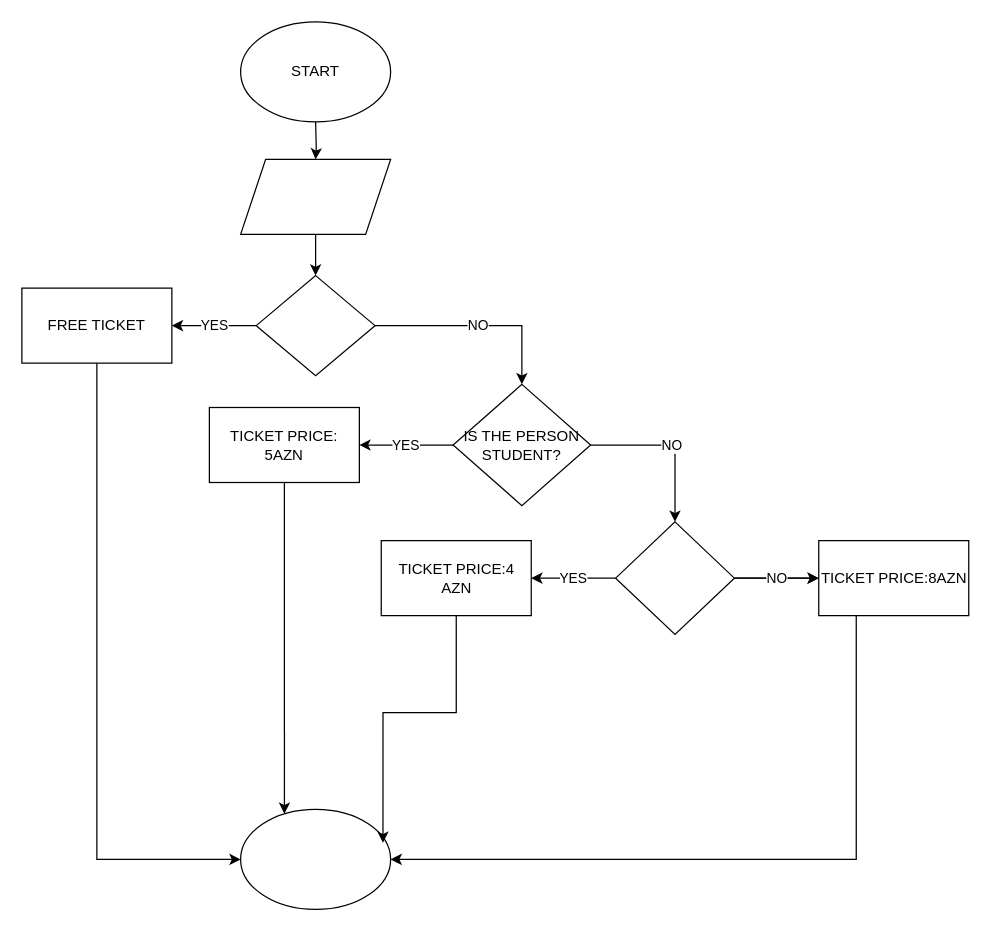
Image size: 991x931. Some labels were removed from this diagram. Each missing label, with the centre of its shape:
"ENTER AGE" goes at point 315,196.
"IS AGE GREATER THAN 65?" goes at point 674,577.
"IS AGE LESS THAN 7?" goes at point 315,325.
